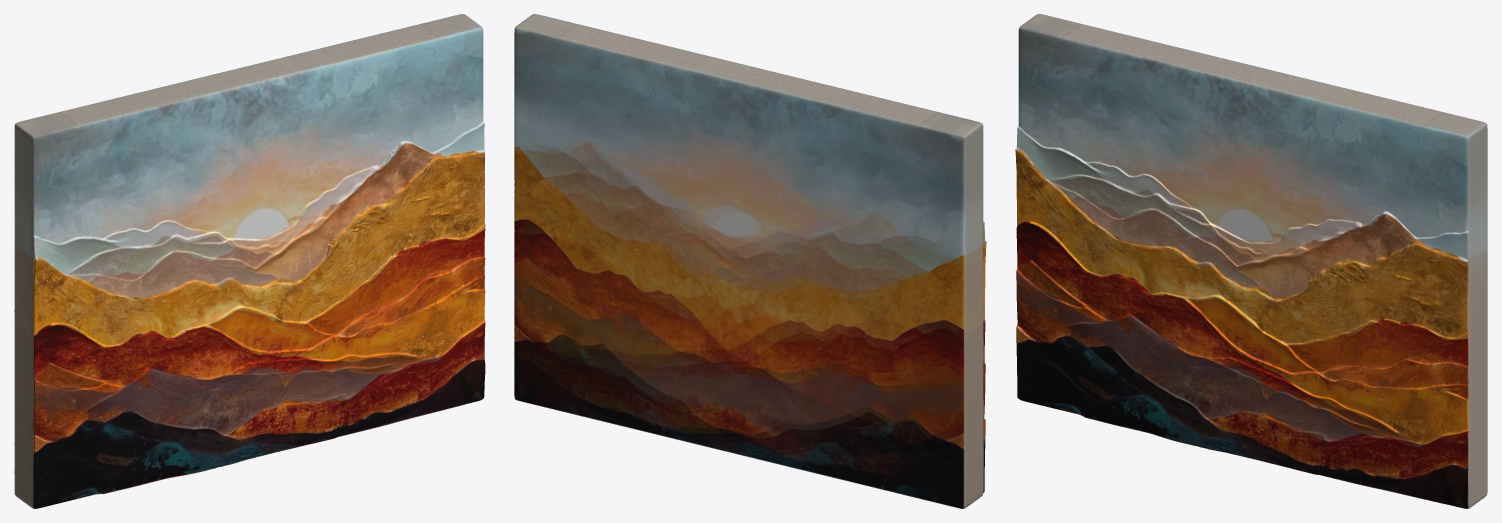
File: Meshy_AI_Mountain_Sunrise_0920094114_texture.glb
The picture shows the model from 3 angles, left to right: view 1: azimuth 30°, elevation 25°; view 2: azimuth 150°, elevation 25°; view 3: azimuth 330°, elevation 25°; orthographic projection.
Size of the model in its own units: 1.9 by 1.5 by 0.1717.
Materials: 1 (1 with a texture image).
